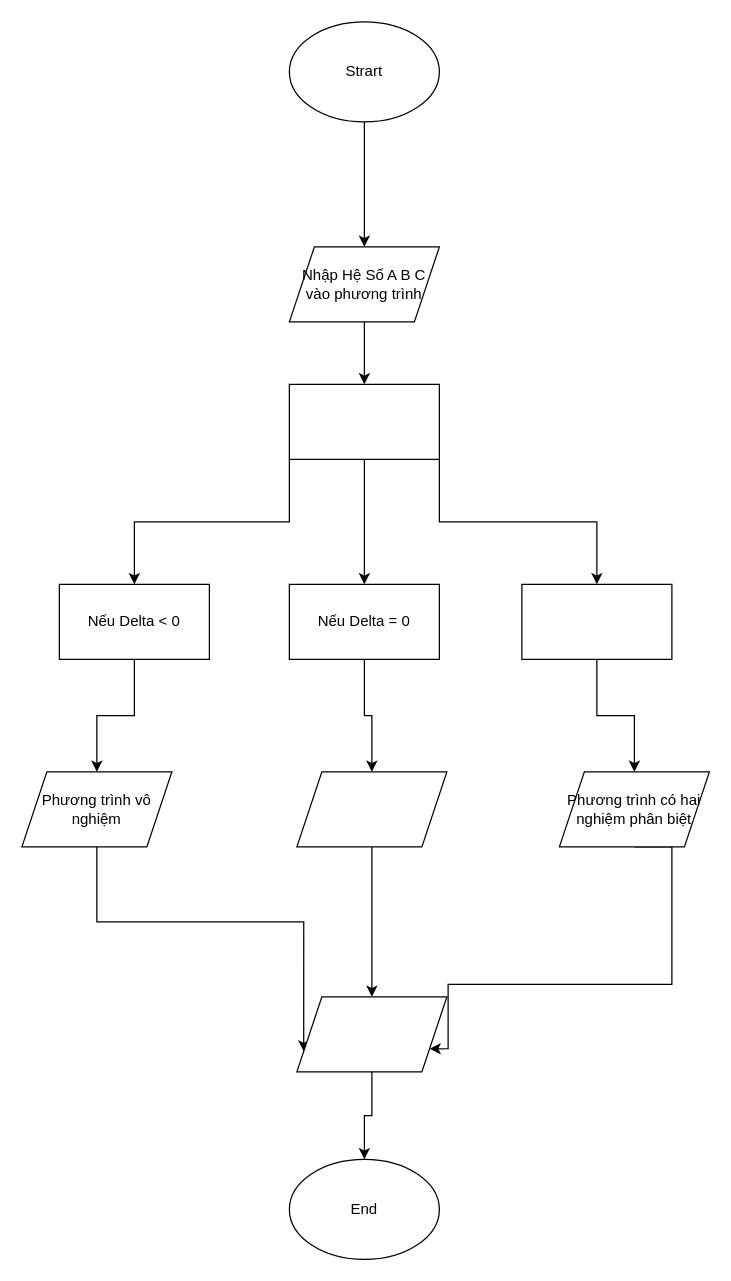
This 731x1281 diagram has some shape labels left out. The box of each missing label's shape, as (x1, y1, x2, y2) in pixels:
In kết quả ra màn hình: (296, 996, 447, 1072)
Nếu Delta > 0: (521, 583, 672, 659)
Phương trình có nghiệm kép: (296, 771, 447, 847)
Tính delta B^2 - 4AC: (288, 383, 439, 459)
